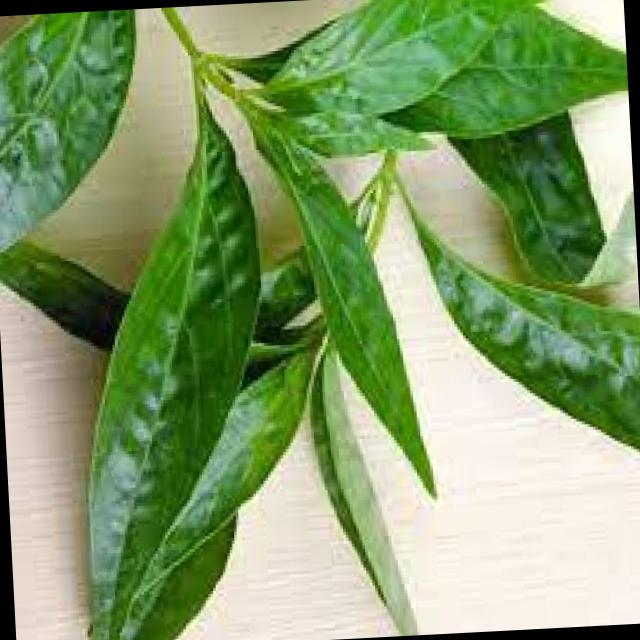Chirata: (49, 28, 640, 608)
